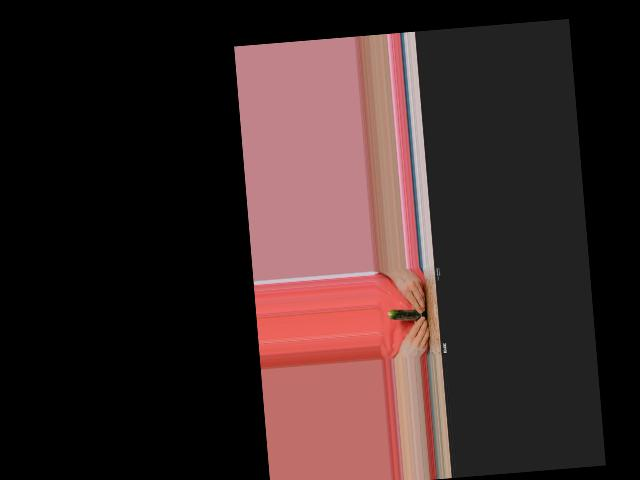cucumber: (388, 306, 427, 322)
